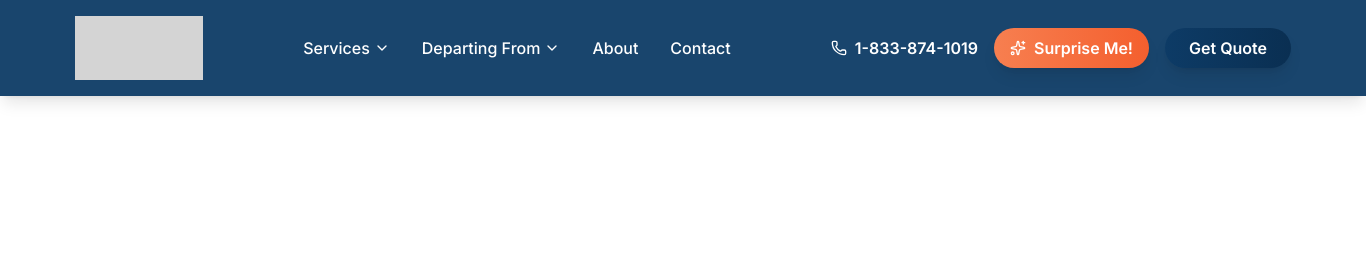
Test case: Header › Desktop Navigation › should show Departing From dropdown on hover
# Show dropdown
Hover over the button "Departing From": (491,48) x1=422 y1=36 x2=560 y2=60
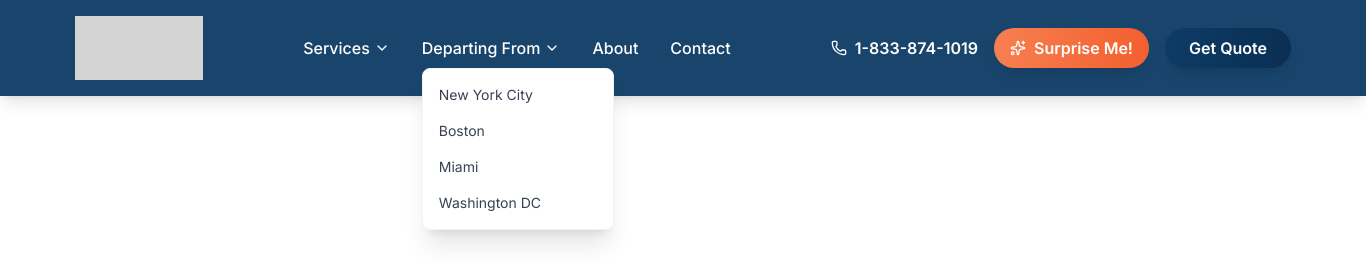
Result: the link "New York City" is shown at x1=439 y1=86 x2=533 y2=103
Result: the link "Boston" is shown at x1=439 y1=122 x2=485 y2=139
Result: the link "Miami" is shown at x1=439 y1=158 x2=478 y2=175
# Hide dropdown
Move the pointer off the button "Departing From", box x1=422 y1=36 x2=560 y2=60
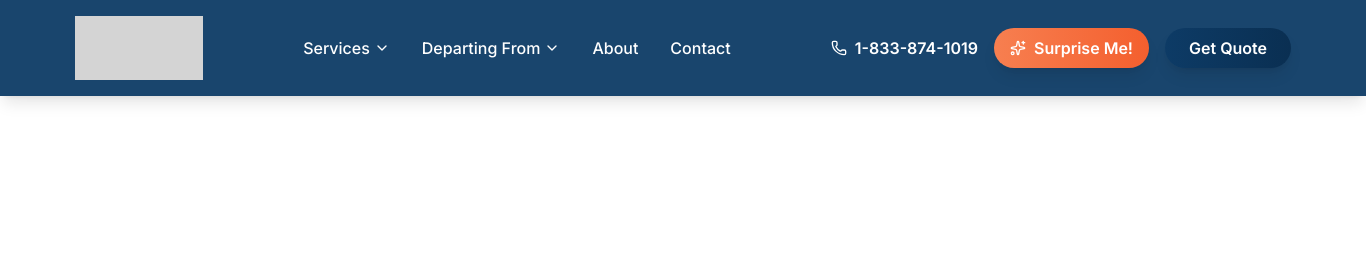
Result: the link "New York City" is gone
